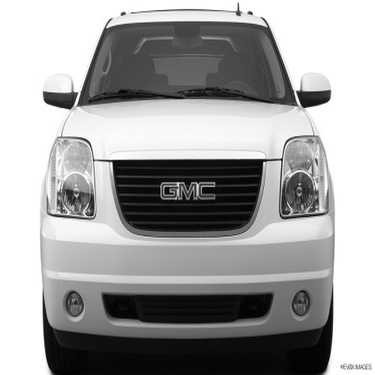car: (31, 4, 338, 373)
